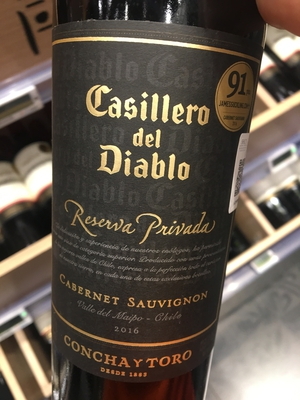casillero del diablo reserva privada cabernet sauvignon: (41, 12, 267, 400)
